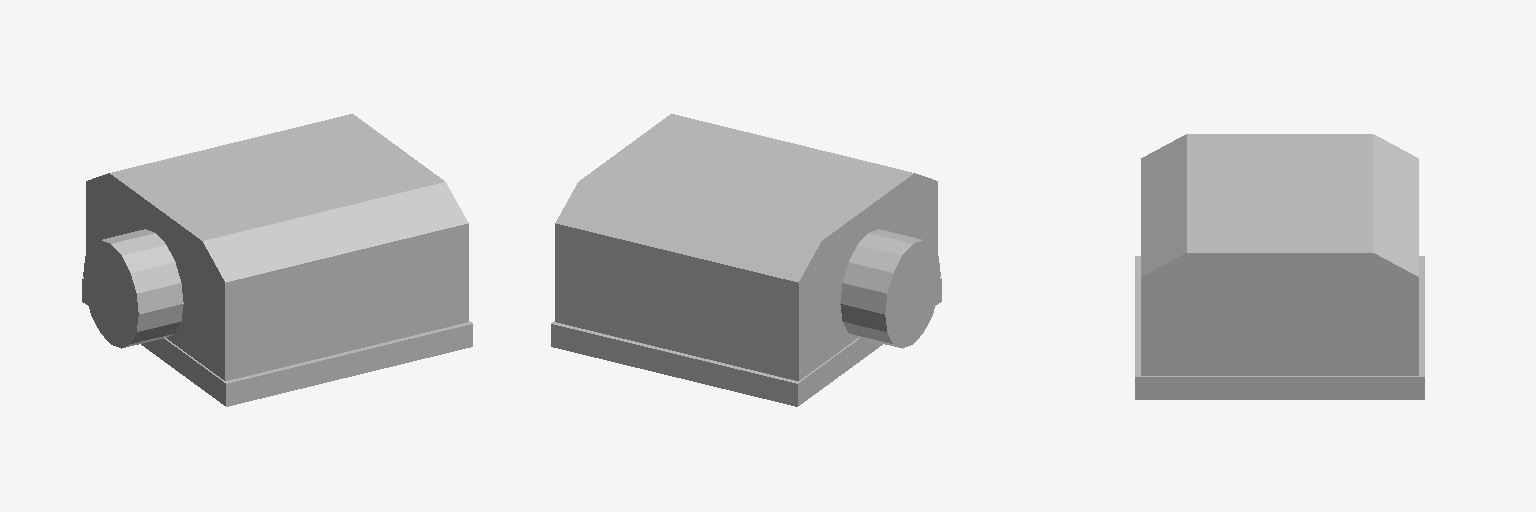
Rendered from plant.obj.
3 renders of one model, left to right at view 1: azimuth 30°, elevation 25°; view 2: azimuth 150°, elevation 25°; view 3: azimuth 270°, elevation 25°, orthographic.
Visible parts, largest first — view 1: Cube.017; view 2: Cube.017; view 3: Cube.017.
Boxes of the visible parts, <box> form: Cube.017: <box>82,114,472,406</box>; Cube.017: <box>551,114,941,406</box>; Cube.017: <box>1135,134,1424,399</box>.
Bounding box in the file's own units: 6.75 × 3.26 × 5.82.